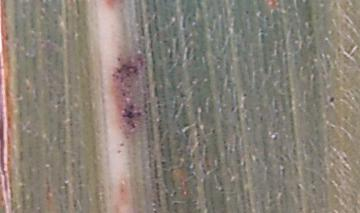tarspot: (270, 132, 279, 141), (242, 8, 251, 16), (327, 96, 337, 103), (229, 104, 236, 114), (159, 159, 166, 167), (114, 147, 121, 154), (241, 91, 248, 98), (257, 114, 264, 121), (118, 140, 124, 148)
